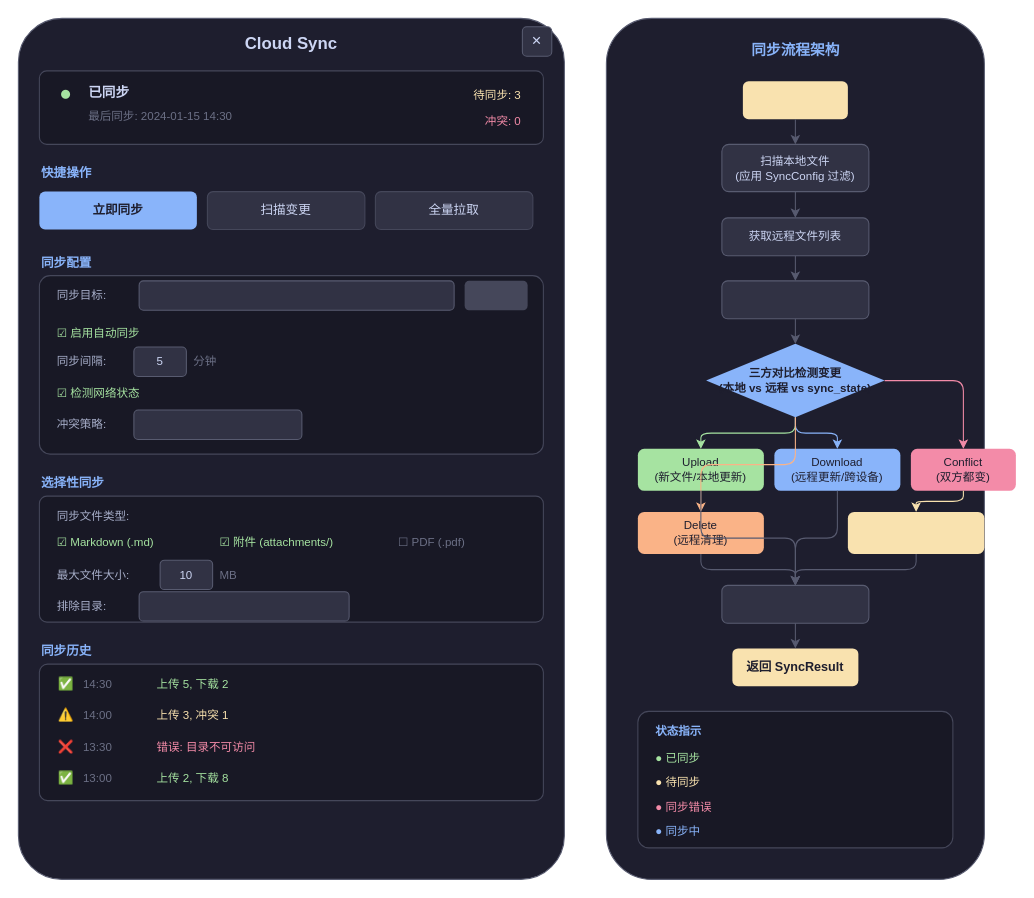
The diagram is 1034 pixels wide and 898 high, and some of its shapes have lost their labels. The shapes that lost their labels are listed below. From the top down, each one's centre as x and y in pixels, then its label:
At pixel 794 100: "用户操作".
At pixel 296 295: "D:\BaiduSync\MiniObsidian".
At pixel 495 295: "浏览...".
At pixel 795 299: "读取 sync_state 表".
At pixel 217 424: "自动保留最新 ▾".
At pixel 915 532: "冲突解决 (KeepNewer/Both)".
At pixel 243 606: "node_modules, .git".
At pixel 795 603: "更新 sync_state 表".
